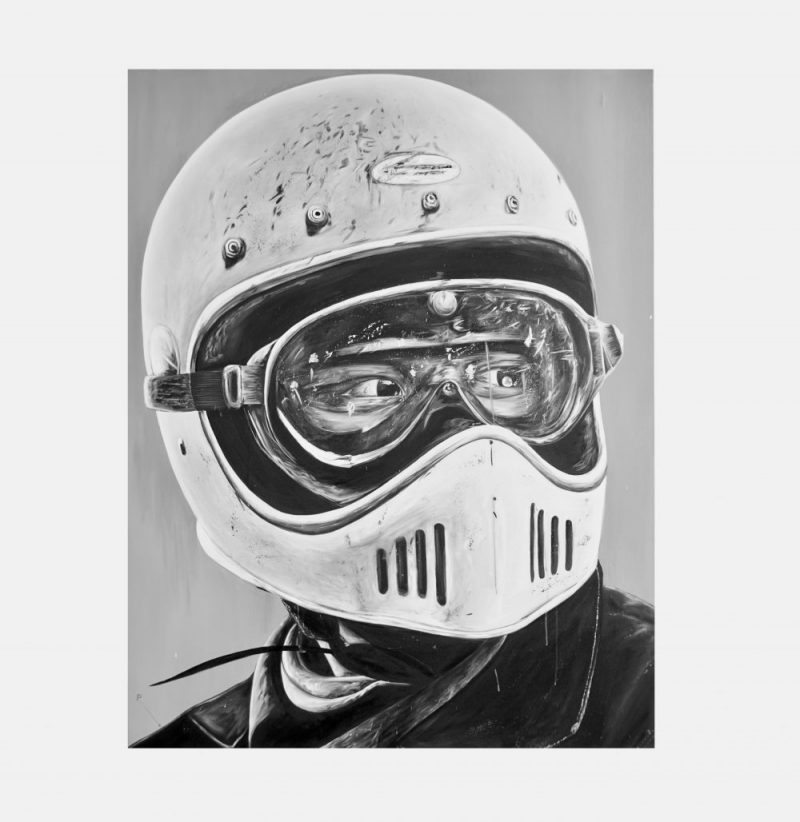with_helmet: (135, 71, 651, 644)
